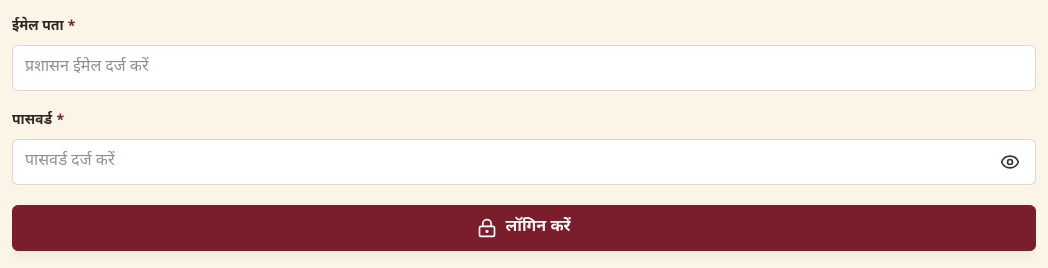
Scenario: AdminLoginForm › toggles password visibility without clearing the password
Type " secret " into the password field with placeholder "पासवर्ड दर्ज करें" at coordinates (524, 162), box [12,139,1036,185]
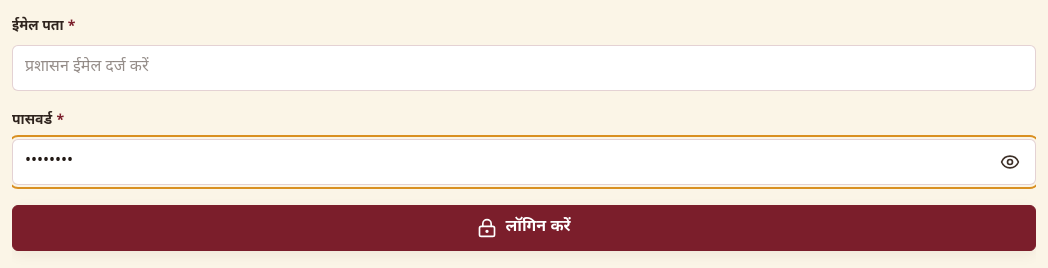
Click the button named "पासवर्ड दिखाएं" at coordinates (1010, 162), box [992,144,1028,180]
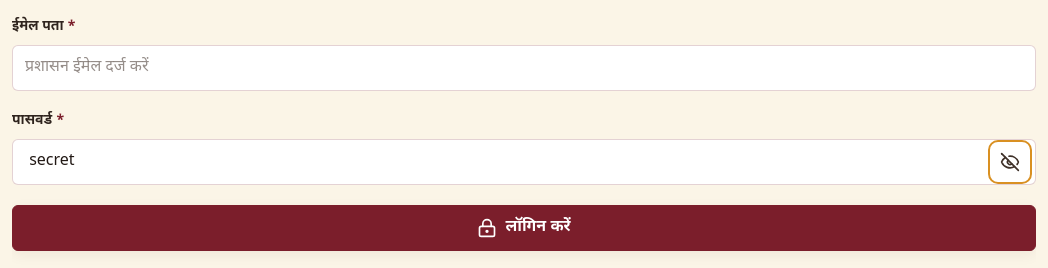
Expected: the field with placeholder "पासवर्ड दर्ज करें" shows its text, [12,139,1036,185]
Click the button named "पासवर्ड छिपाएं" at coordinates (1010, 162), box [992,144,1028,180]
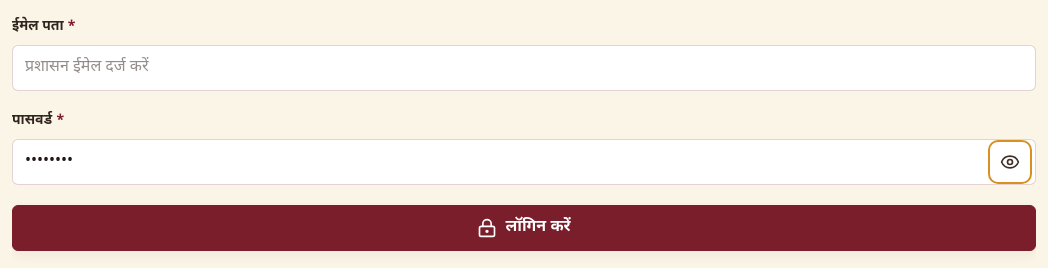
Expected: the password field with placeholder "पासवर्ड दर्ज करें" hides its text, [12,139,1036,185]
